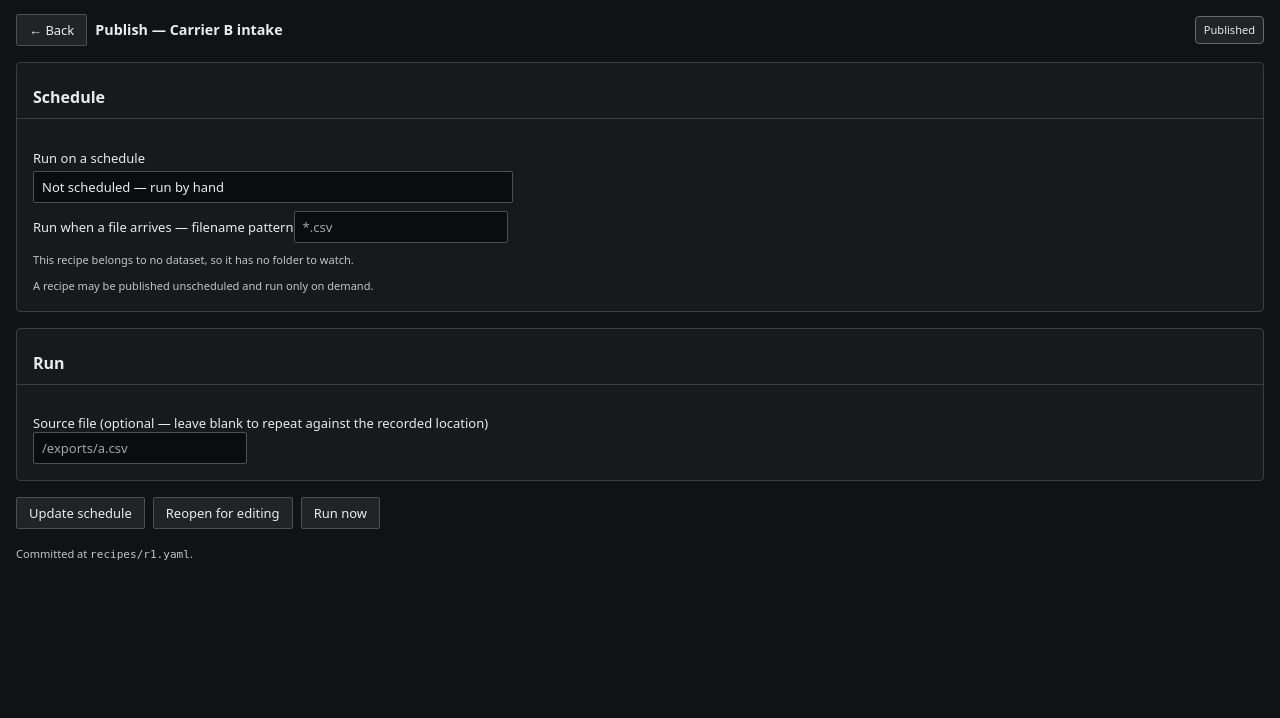
Test case: Publish: a run into a case that already holds its rows › says it for a pipeline run too, from the total the run reports
Click the button "Run now": (340, 513) [301,497,380,529]
(page scrolled)
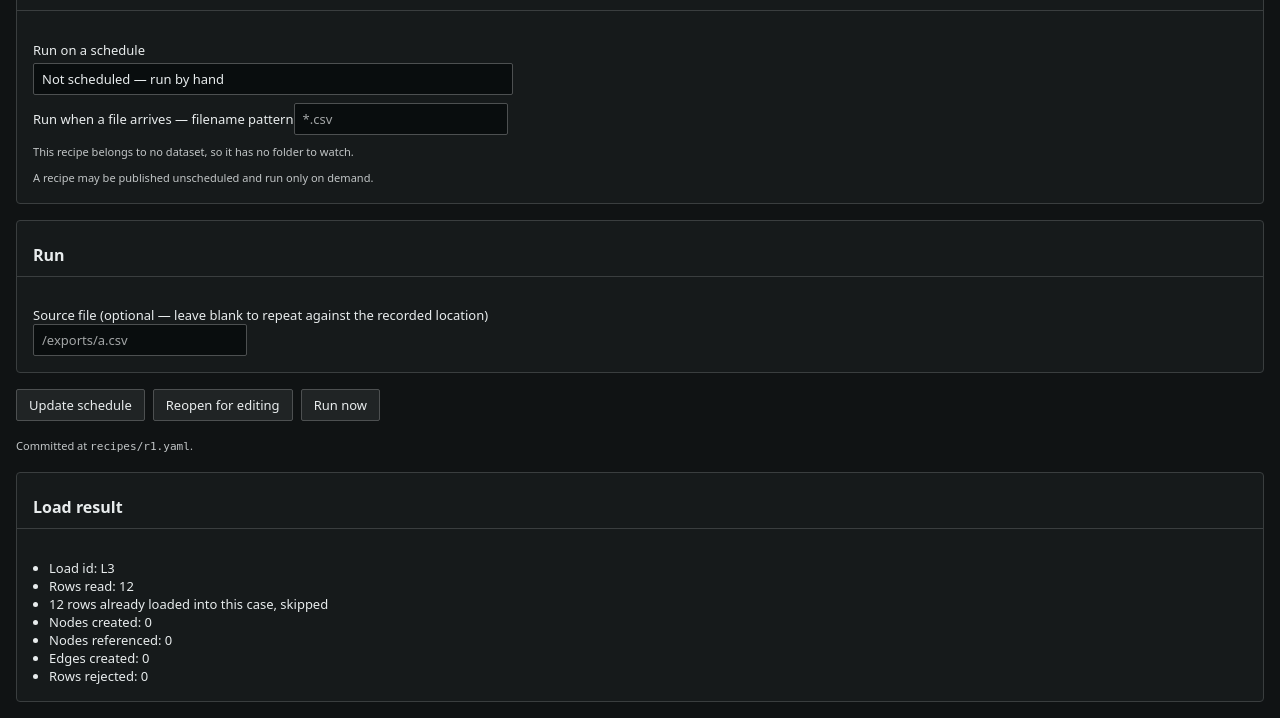
Now the list item "12 rows already loaded into this case, skipped" is shown, box [49,595,328,613]
